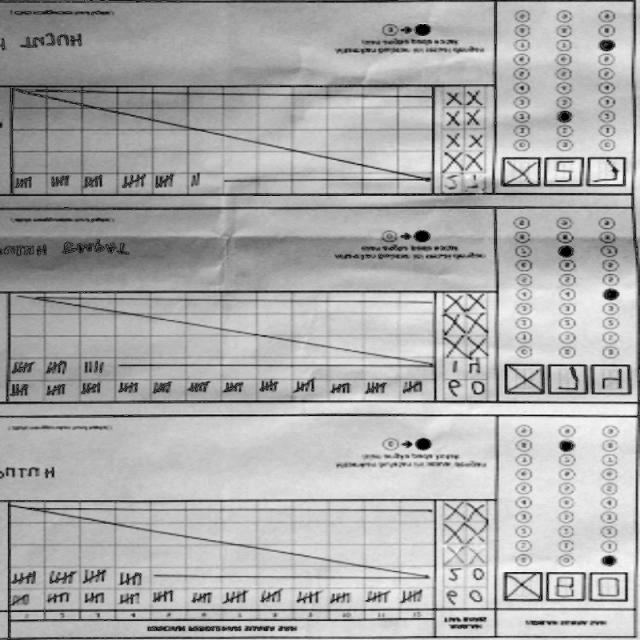Suara: (498, 567, 633, 607), (499, 360, 634, 400), (498, 154, 633, 194)
